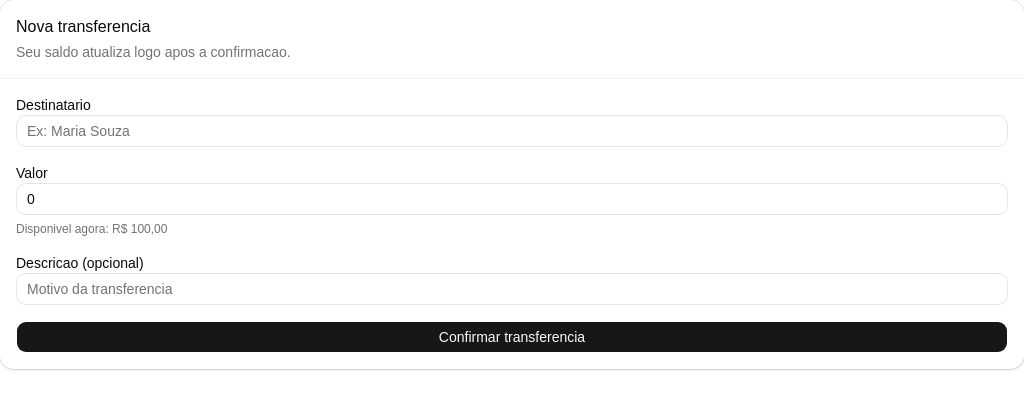
Test: TransferForm › shows local error when amount exceeds available saldo
The width and height of the screenshot is (1024, 409).
Type "Maria Souza" into the field labelled "Destinatario" at x=512, y=131, box [16,115,1008,147]
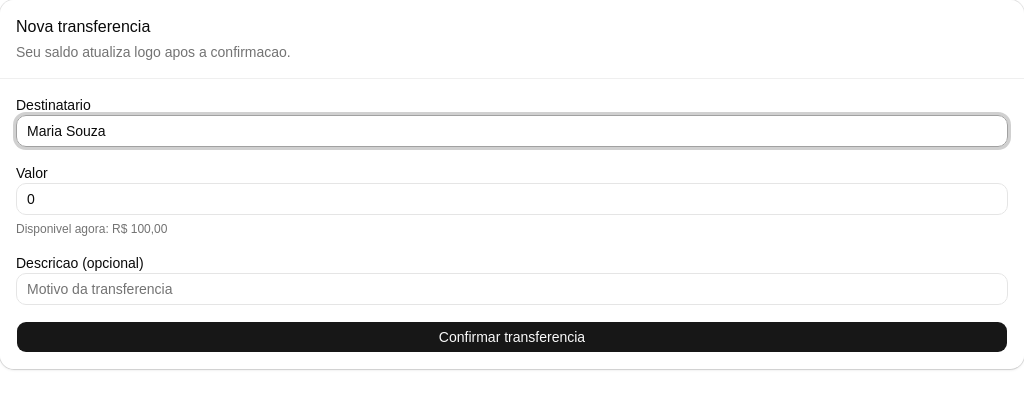
Replace the text in the number field labelled "Valor" with "150" at x=512, y=199, box [16,183,1008,215]
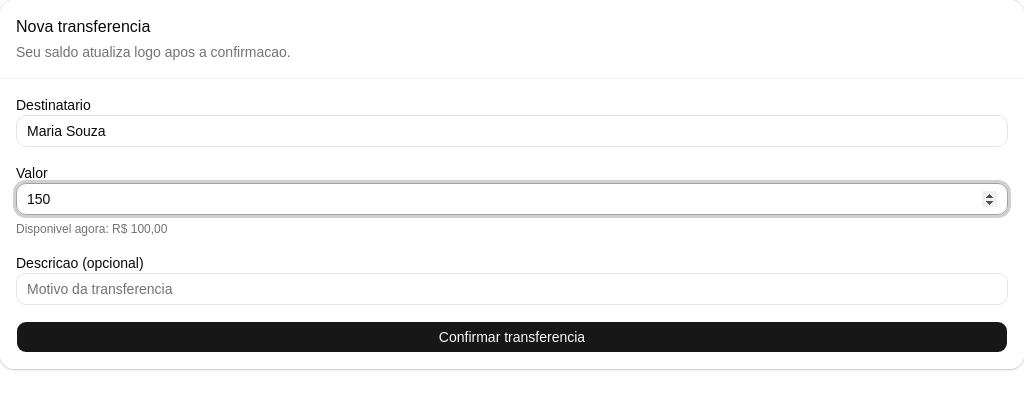
Click the button "Confirmar transferencia" at x=512, y=337, box [16,321,1008,353]
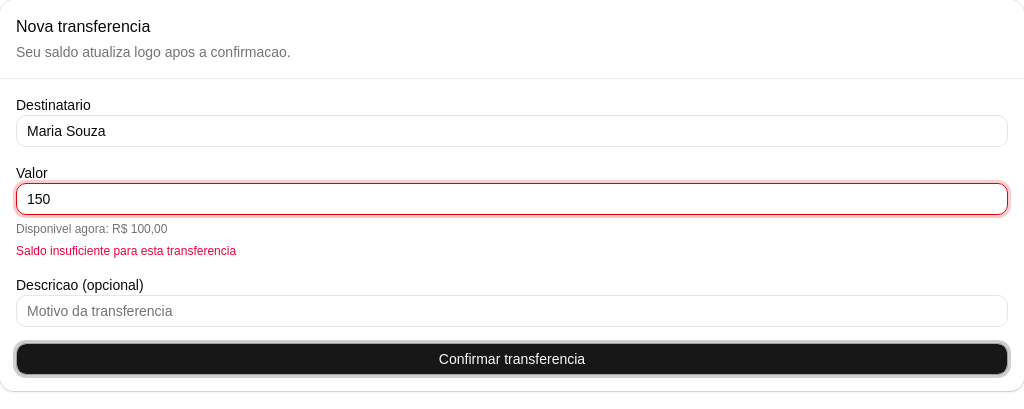
expect the text "Saldo insuficiente para esta transferencia" is shown: met, box [16,244,236,258]
